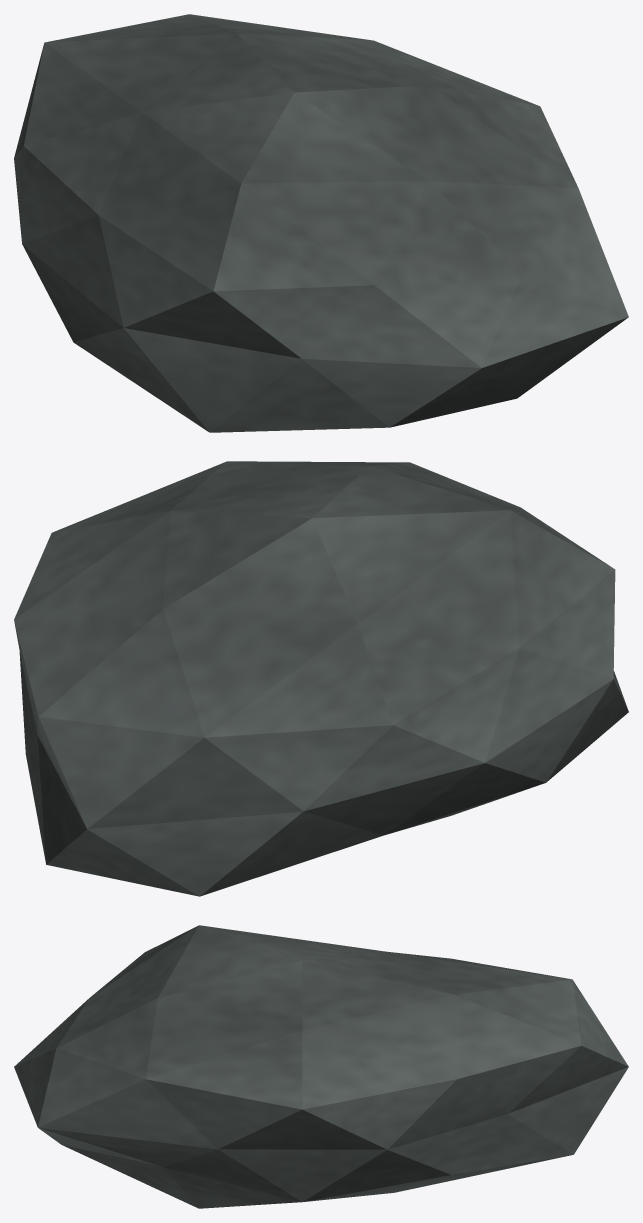
Rendered from reef_rock.glb.
The picture shows the model from 3 angles, top to bottom: view 1: azimuth 30°, elevation 25°; view 2: azimuth 150°, elevation 25°; view 3: azimuth 270°, elevation 25°; orthographic projection. The views are drawn at different scales.
Visible parts, largest first — view 1: ReefRock; view 2: ReefRock; view 3: ReefRock.
Part boxes in pixels (box(x1,y1,x2,y2)): ReefRock: box(14, 14, 628, 432); ReefRock: box(14, 461, 628, 896); ReefRock: box(14, 925, 628, 1208).
Bounding box in the file's own units: 2.81 × 1.6 × 4.1.
Materials: 1 (1 with a texture image).
